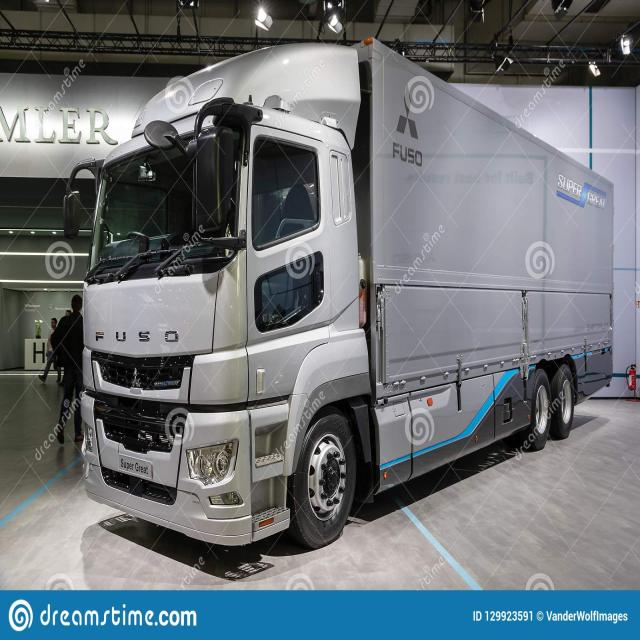truck: (61, 31, 617, 555)
